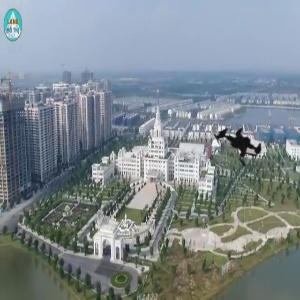drone: (200, 110, 276, 186)
